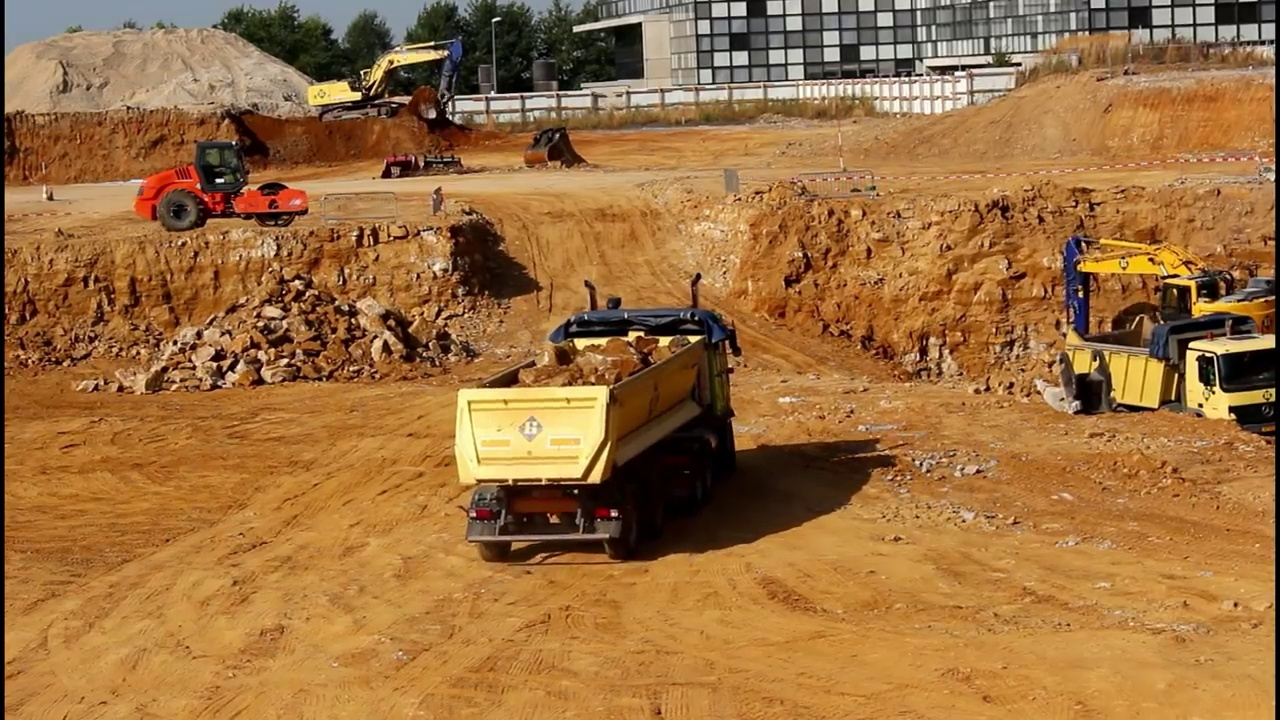compactor: (134, 140, 309, 233)
excavator: (1051, 230, 1280, 387), (305, 33, 468, 128)
truck: (450, 272, 747, 564), (1061, 312, 1280, 453)
